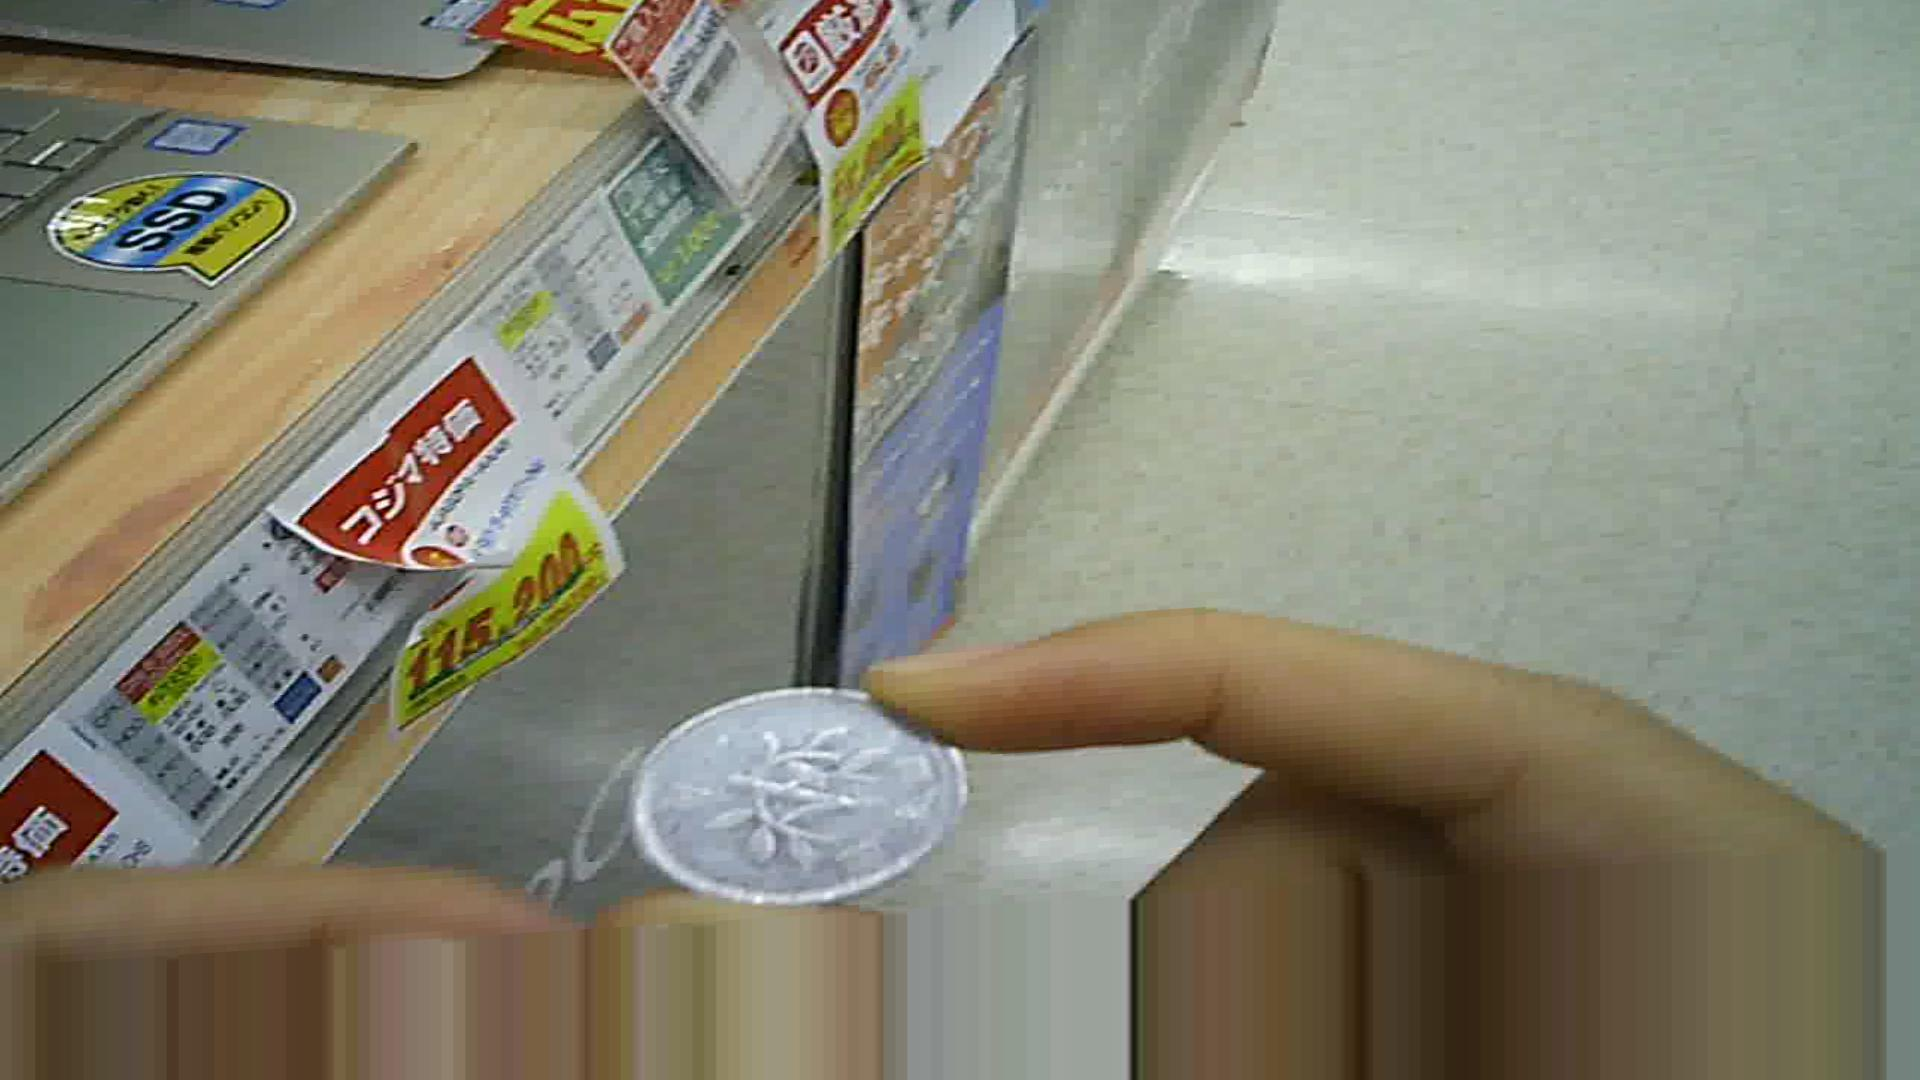1 Yen: (616, 673, 992, 922)
